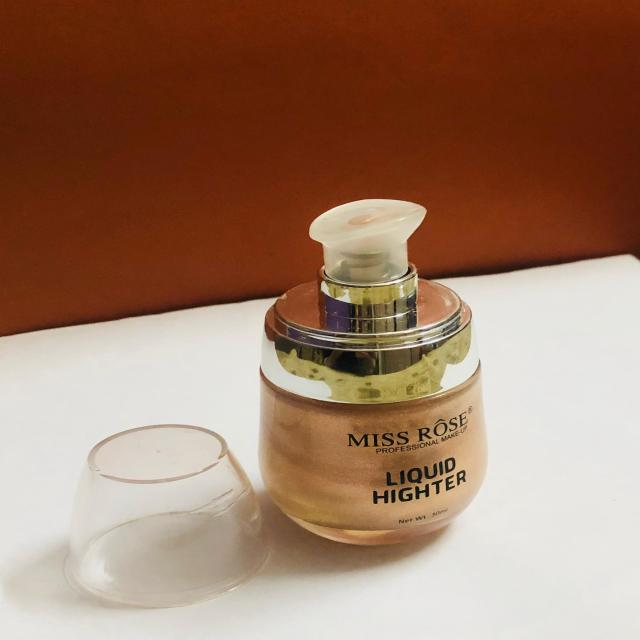foundation: (230, 176, 513, 548)
